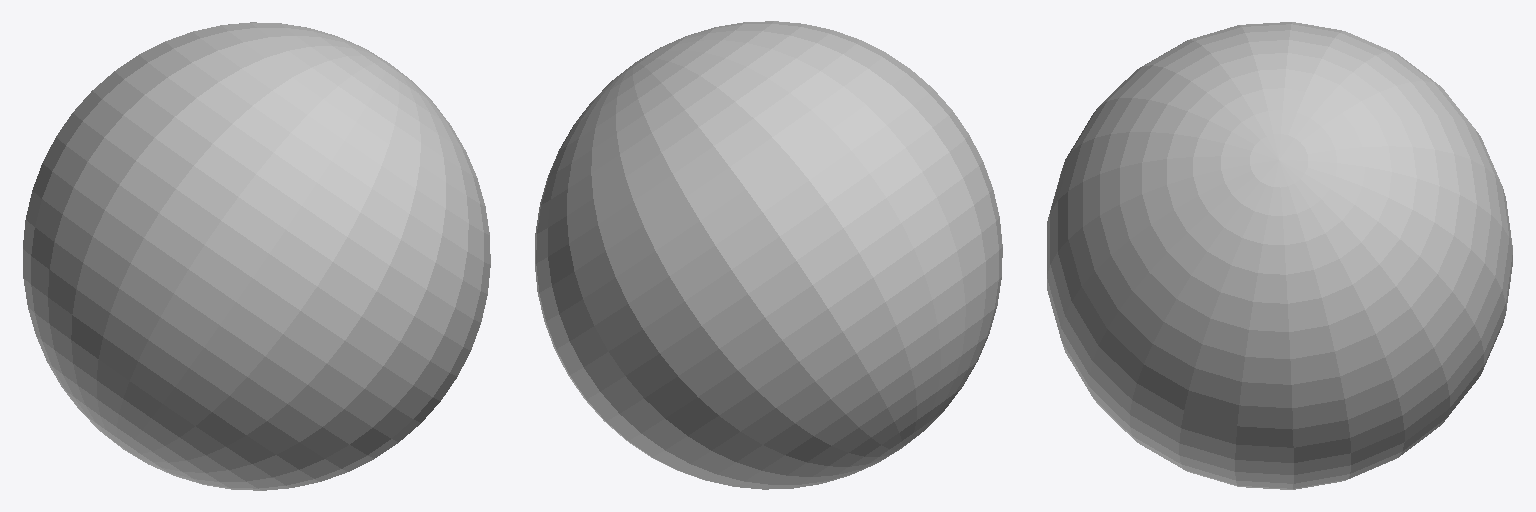
The model's file is CubeWITHAnim0009.obj.
3 renders of one model, left to right at view 1: azimuth 30°, elevation 25°; view 2: azimuth 150°, elevation 25°; view 3: azimuth 270°, elevation 25°, orthographic.
Parts seen in each view (by area): view 1: NEWJumpBall_Sphere; view 2: NEWJumpBall_Sphere; view 3: NEWJumpBall_Sphere.
Part boxes in pixels (x1,y1,x2,y2): NEWJumpBall_Sphere: (23,22,490,490); NEWJumpBall_Sphere: (535,21,1002,489); NEWJumpBall_Sphere: (1047,22,1512,489).
Bounding box in the file's own units: 2 × 2 × 1.99.